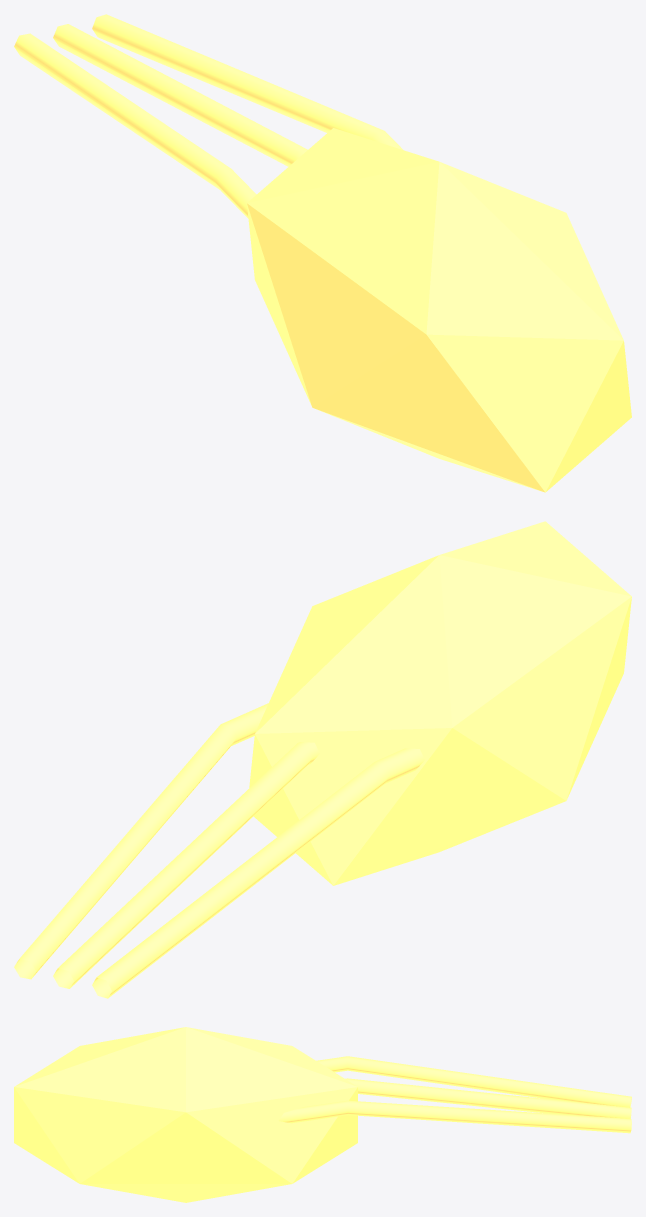
Rendered from projectile.fire.glb.
The picture shows the model from 3 angles, top to bottom: view 1: azimuth 30°, elevation 25°; view 2: azimuth 150°, elevation 25°; view 3: azimuth 270°, elevation 25°; orthographic projection. The views are drawn at different scales.
Visible parts, largest first — view 1: projectile.fire.Icosphere.001; view 2: projectile.fire.Icosphere.001; view 3: projectile.fire.Icosphere.001.
Part boxes in pixels (x1=…): projectile.fire.Icosphere.001: x1=14, y1=14, x2=631, y2=492; projectile.fire.Icosphere.001: x1=14, y1=521, x2=631, y2=998; projectile.fire.Icosphere.001: x1=14, y1=1027, x2=631, y2=1202.
Size of the model in its own units: 0.4293 by 0.48 by 1.53.
